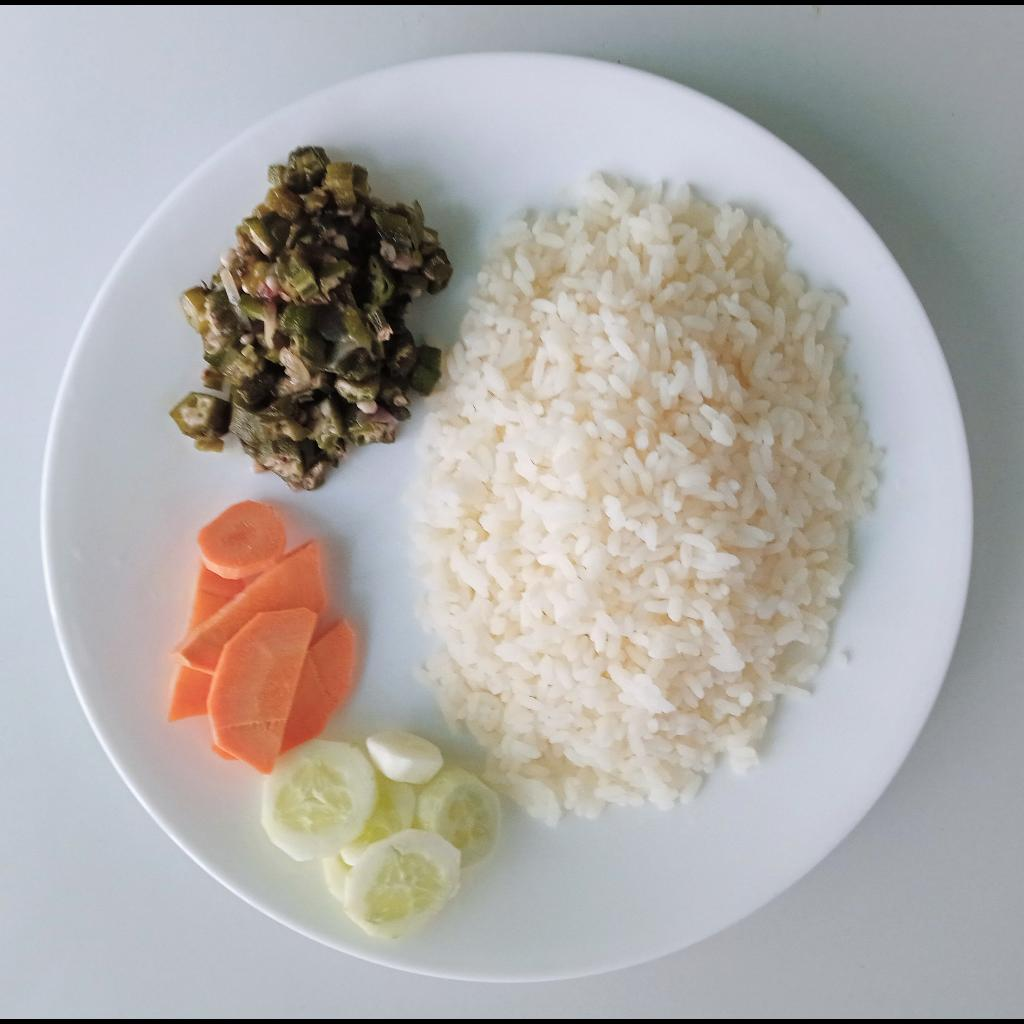carrot: (165, 501, 358, 778)
cucumber: (262, 730, 500, 942)
okra: (169, 145, 454, 493)
rice: (406, 170, 890, 826)
